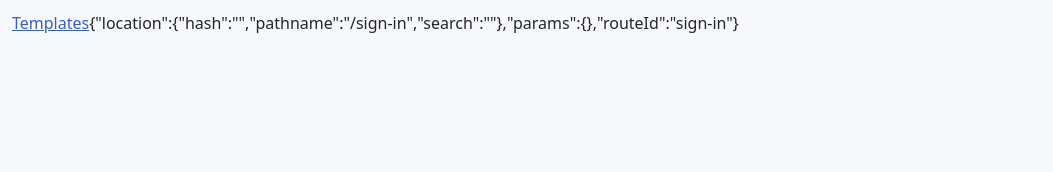
Test case: RouterProvider › uses pushState for an ordinary AppLink click
Click the link "Templates".
click(51, 23)  # box [12,12,89,34]
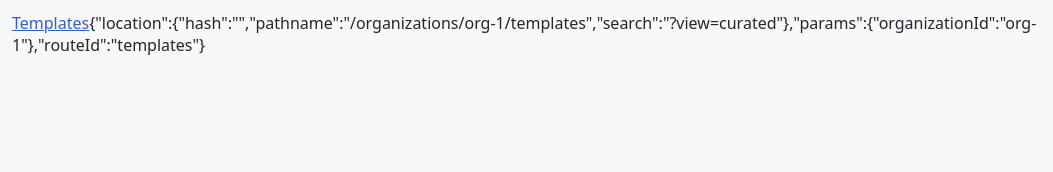
Check: the text named "Current route" shows "\"routeId\":\"templates\"", box [12,12,1036,56]
Check: the text named "Current route" shows "\"search\":\"?view=curated\"", box [12,12,1036,56]
